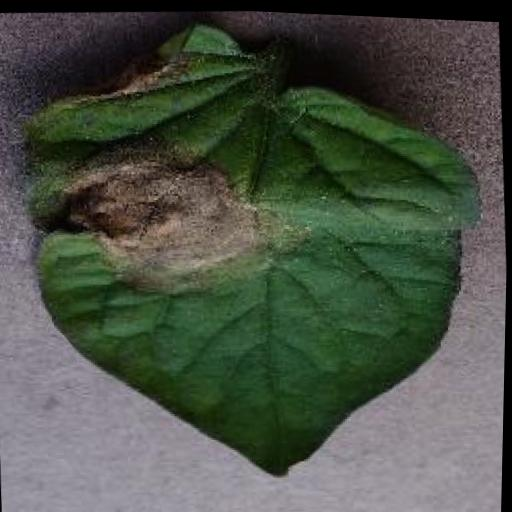Late Blight: (7, 1, 501, 499)
